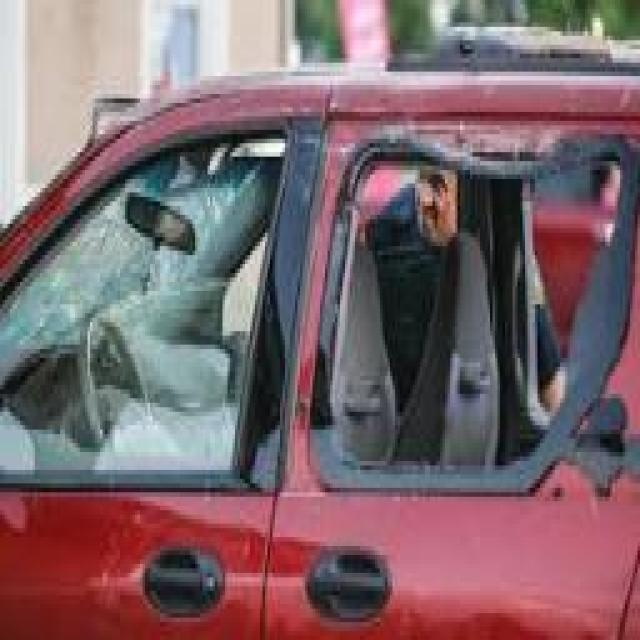replaceable: (335, 120, 627, 490)
